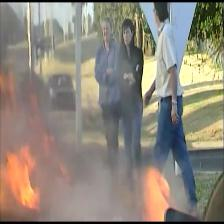fire: (0, 129, 52, 213), (131, 166, 180, 224)
smoke: (3, 8, 90, 126)
